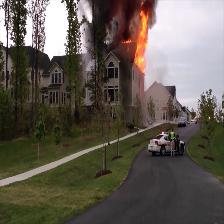fire: (131, 10, 151, 74)
smoke: (95, 1, 130, 44), (137, 1, 155, 8)
